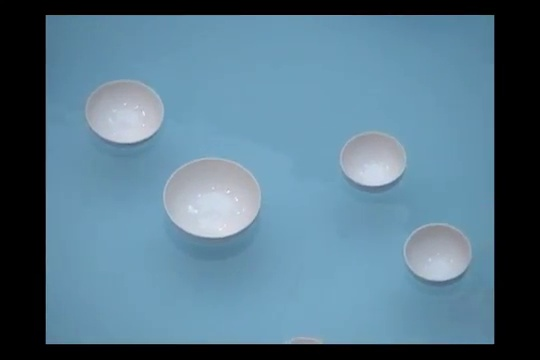bowl: (162, 157, 262, 242), (86, 79, 165, 148), (404, 222, 471, 286), (339, 132, 407, 194)
